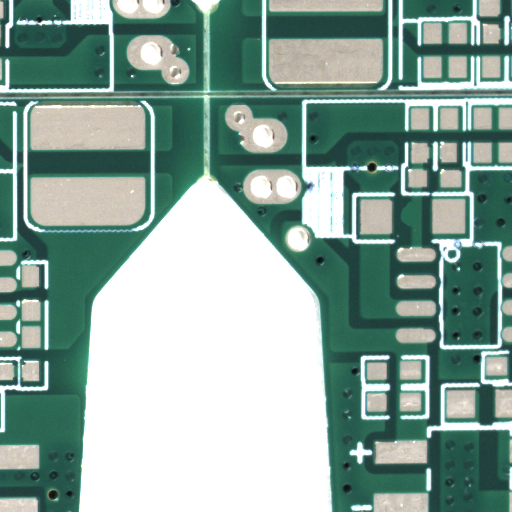Spur: (406, 214, 417, 239)
